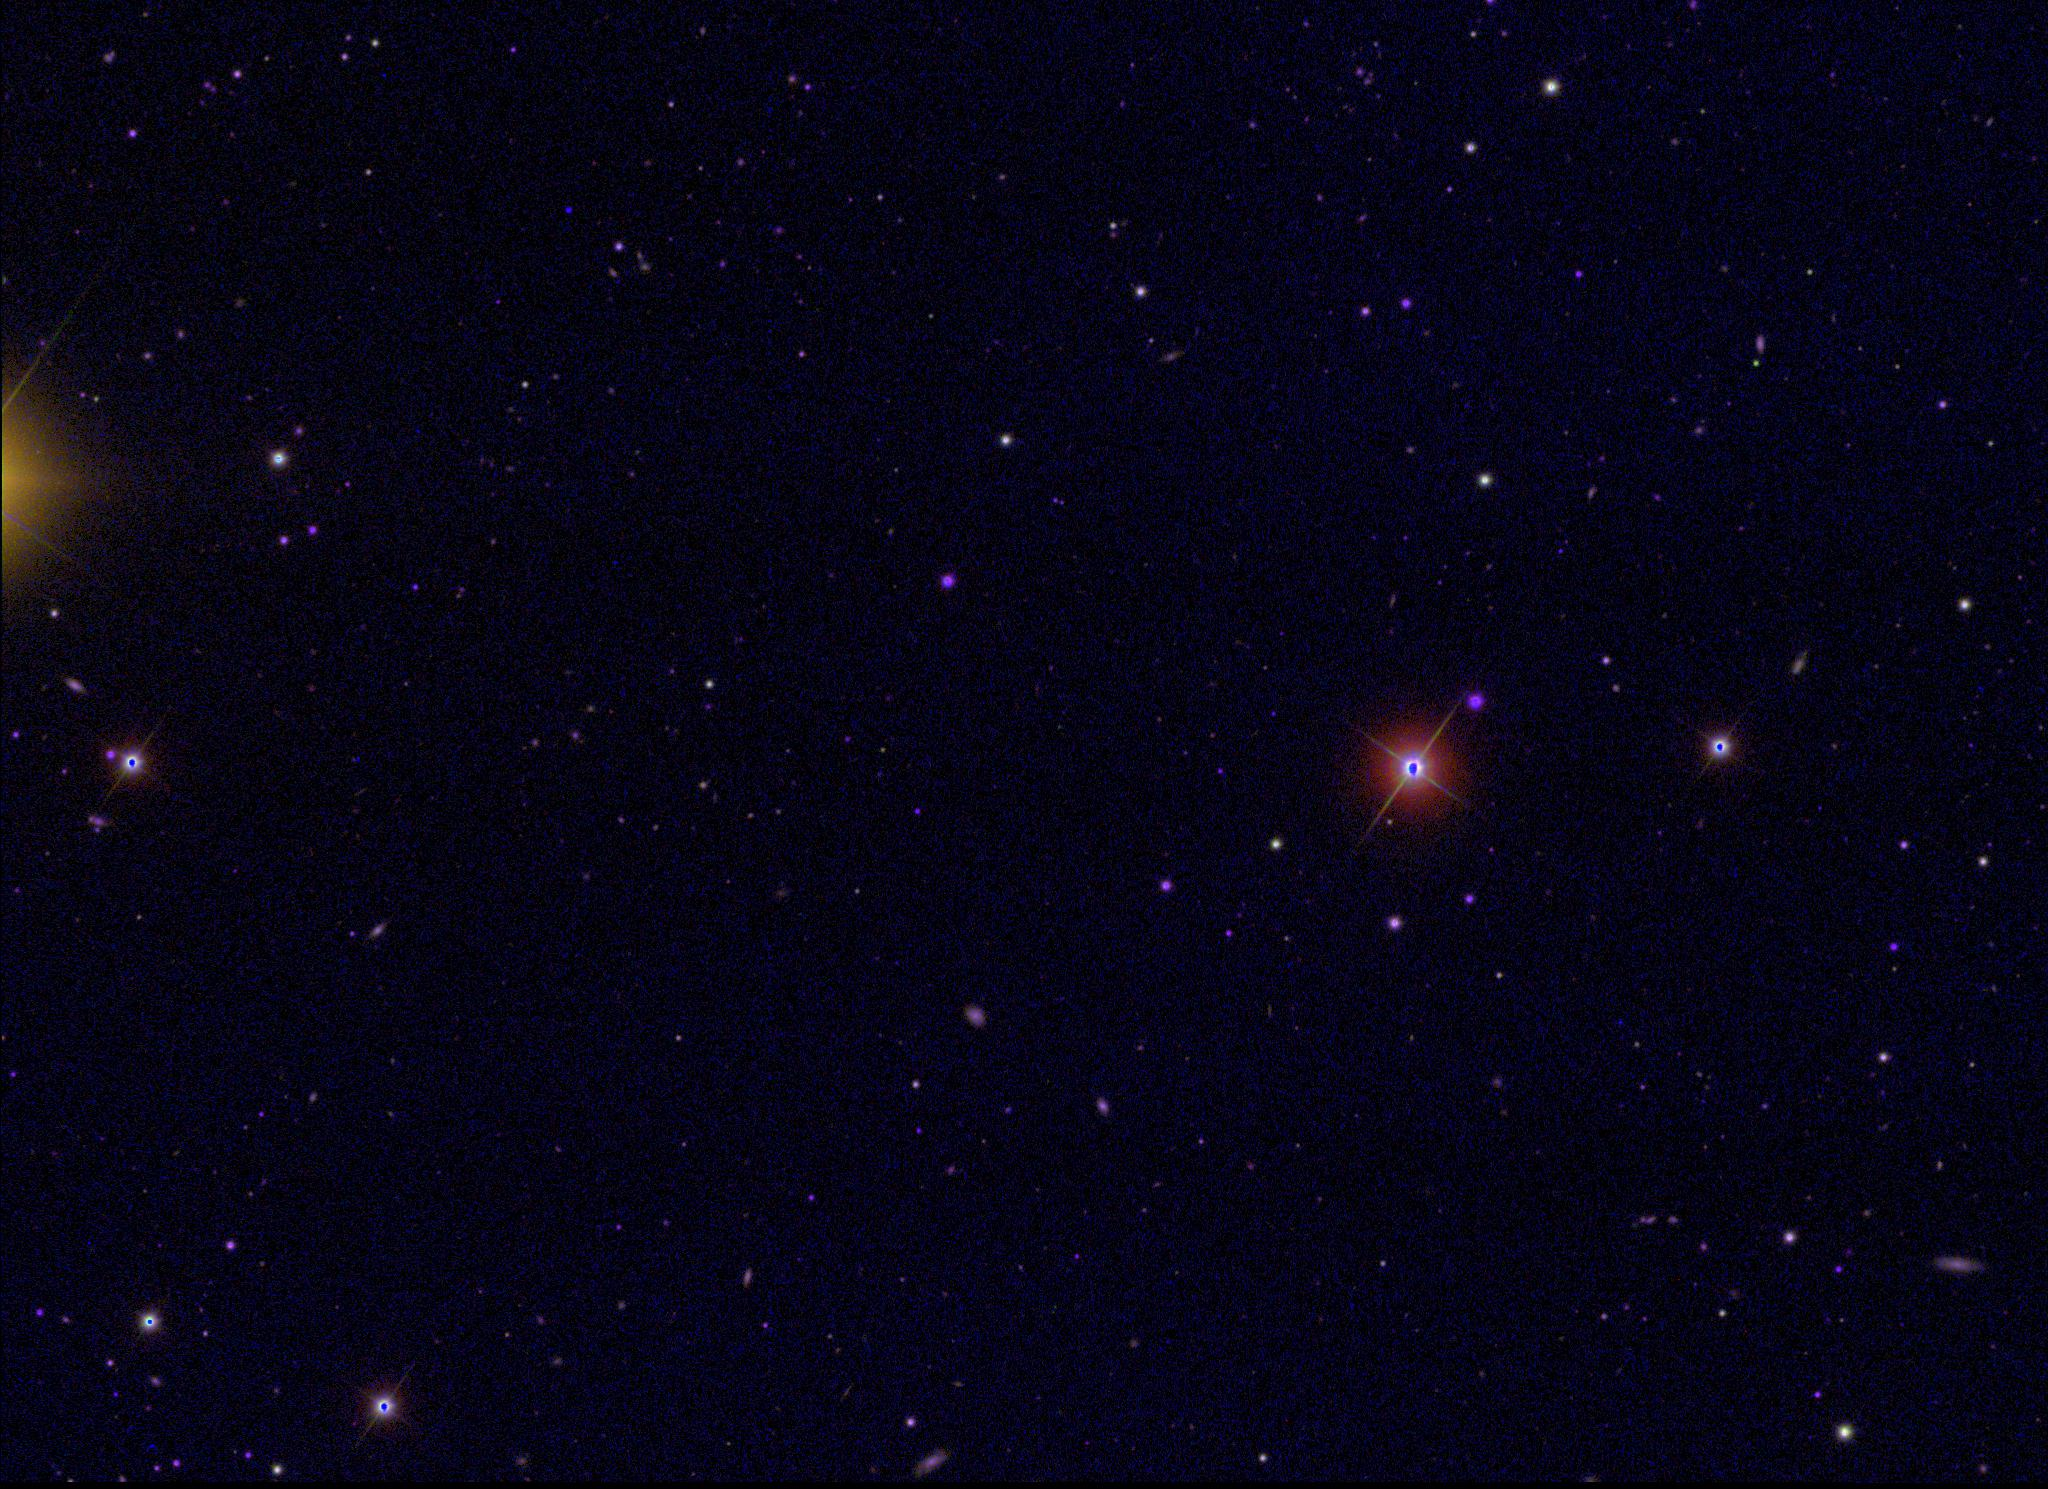L: (563, 204, 577, 218)
